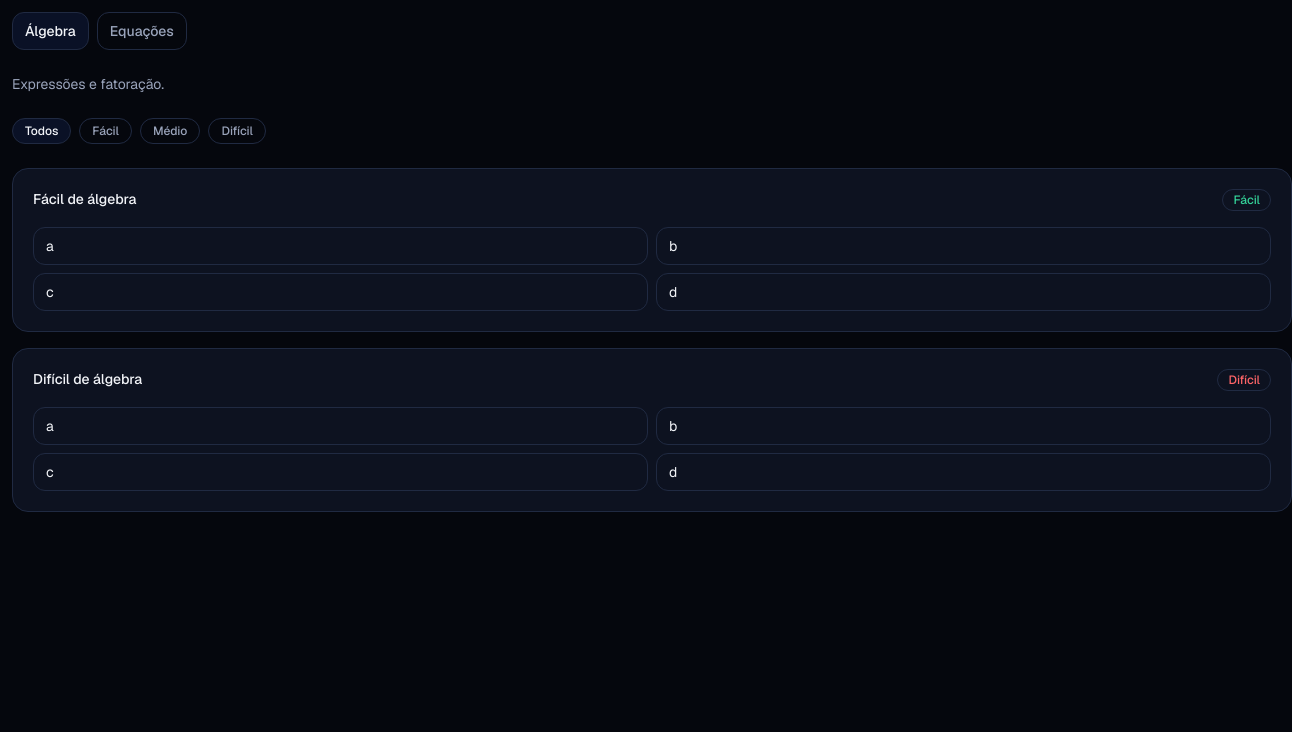
Test: ExerciseBrowser › troca de tópico ao clicar
The width and height of the screenshot is (1292, 732).
Click the button "Equações" at point(142, 31), box [97,12,187,50]
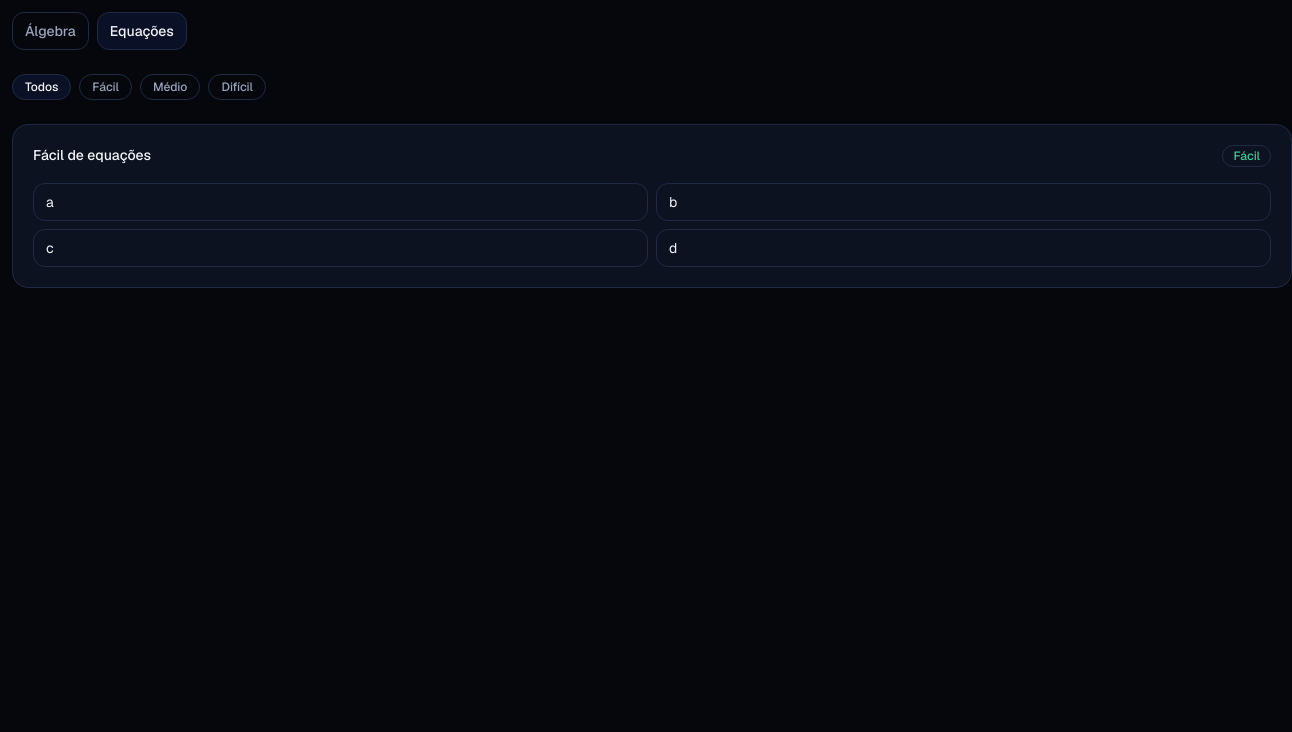
Expected: the text "Fácil de equações" is shown, [33,145,151,165]
Expected: the text "Fácil de álgebra" is gone
